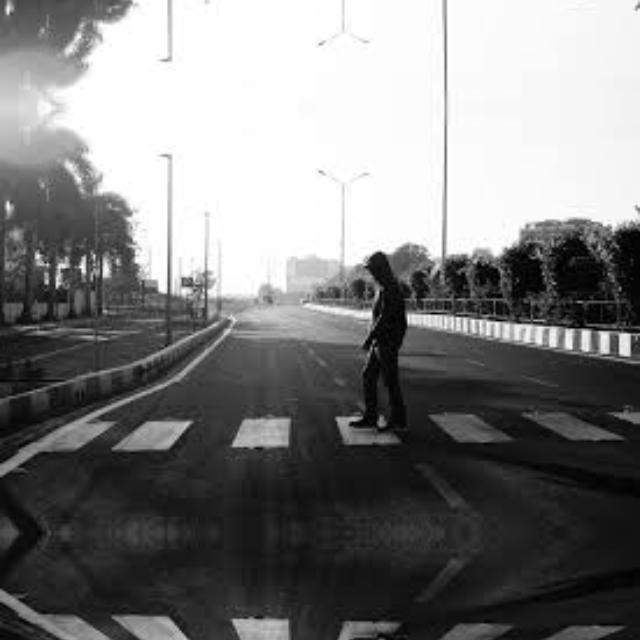person: (332, 248, 434, 436), (331, 629, 434, 640)
